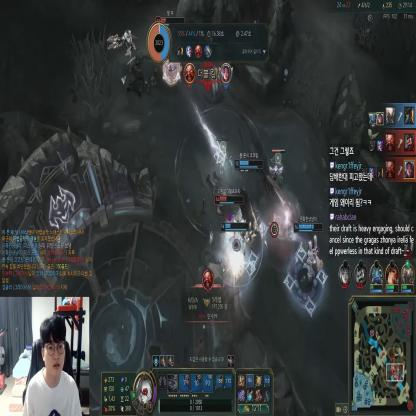streamer: (23, 316, 82, 416)
